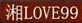L: (24, 6, 32, 19)
